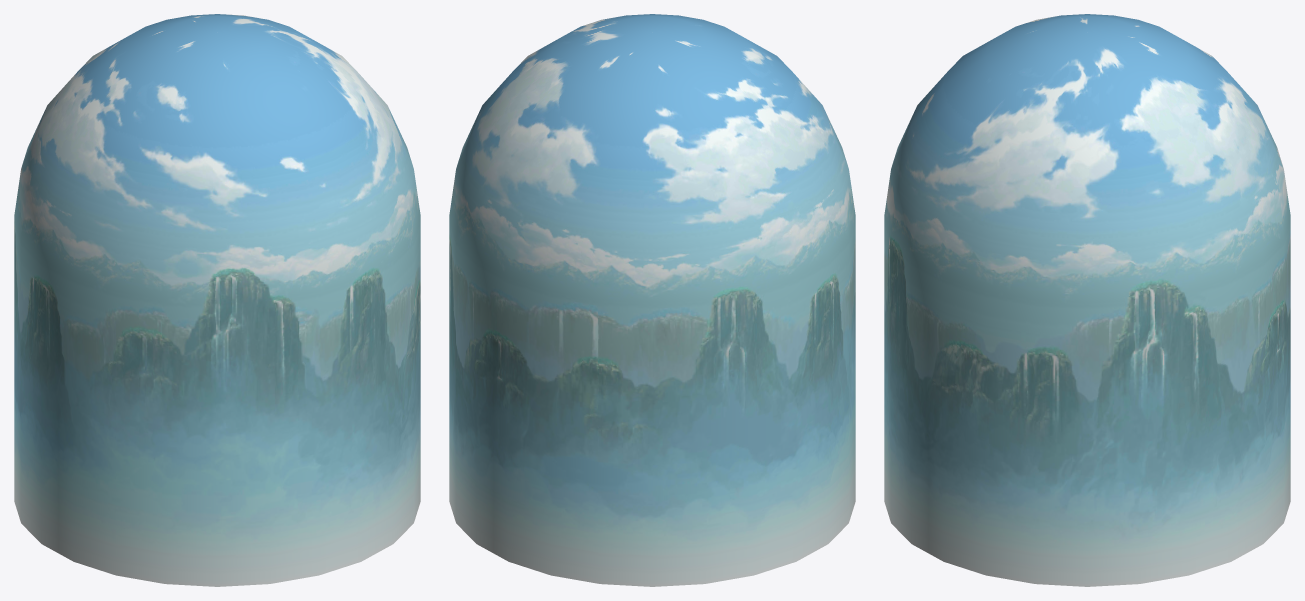
Rendered from skybox_01.FBX.
The picture shows the model from 3 angles, left to right: view 1: azimuth 30°, elevation 25°; view 2: azimuth 150°, elevation 25°; view 3: azimuth 270°, elevation 25°; orthographic projection.
Visible parts, largest first — view 1: skybox; view 2: skybox; view 3: skybox.
Boxes of the visible parts, x1,y1,x2,y2 form: skybox: (14, 14, 420, 586); skybox: (449, 14, 855, 586); skybox: (884, 14, 1290, 586).
Size of the model in its own units: 36000 by 45791 by 36000.
Materials: 1 (1 with a texture image).
